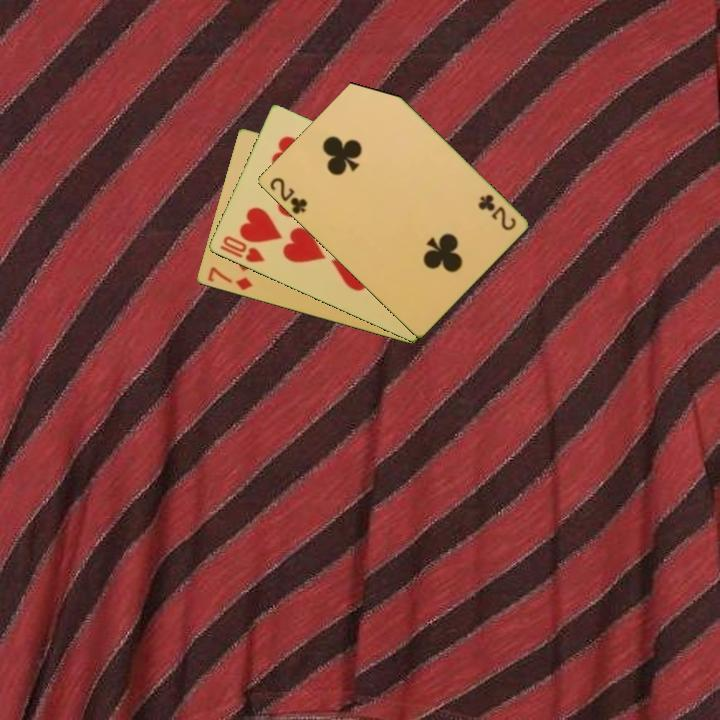10h: (219, 232, 267, 266)
2c: (266, 174, 310, 217), (474, 191, 519, 233)
7d: (204, 263, 255, 293)
